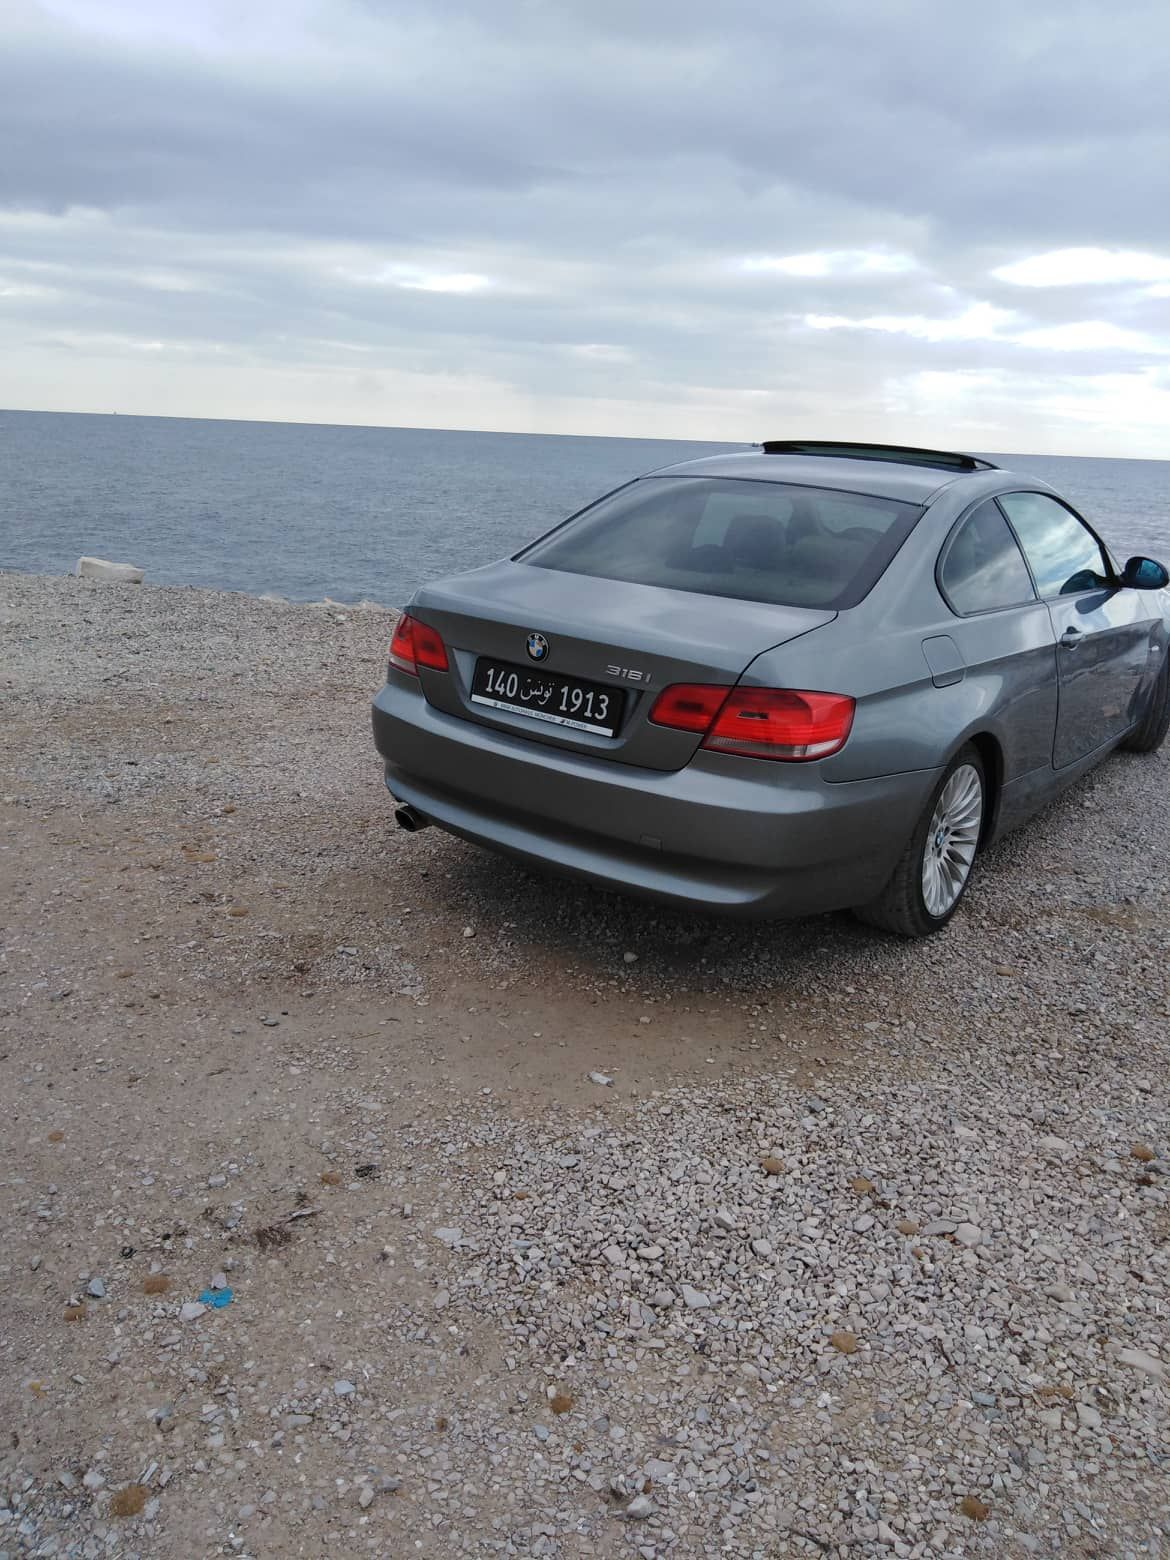LP: (470, 656, 624, 734)
